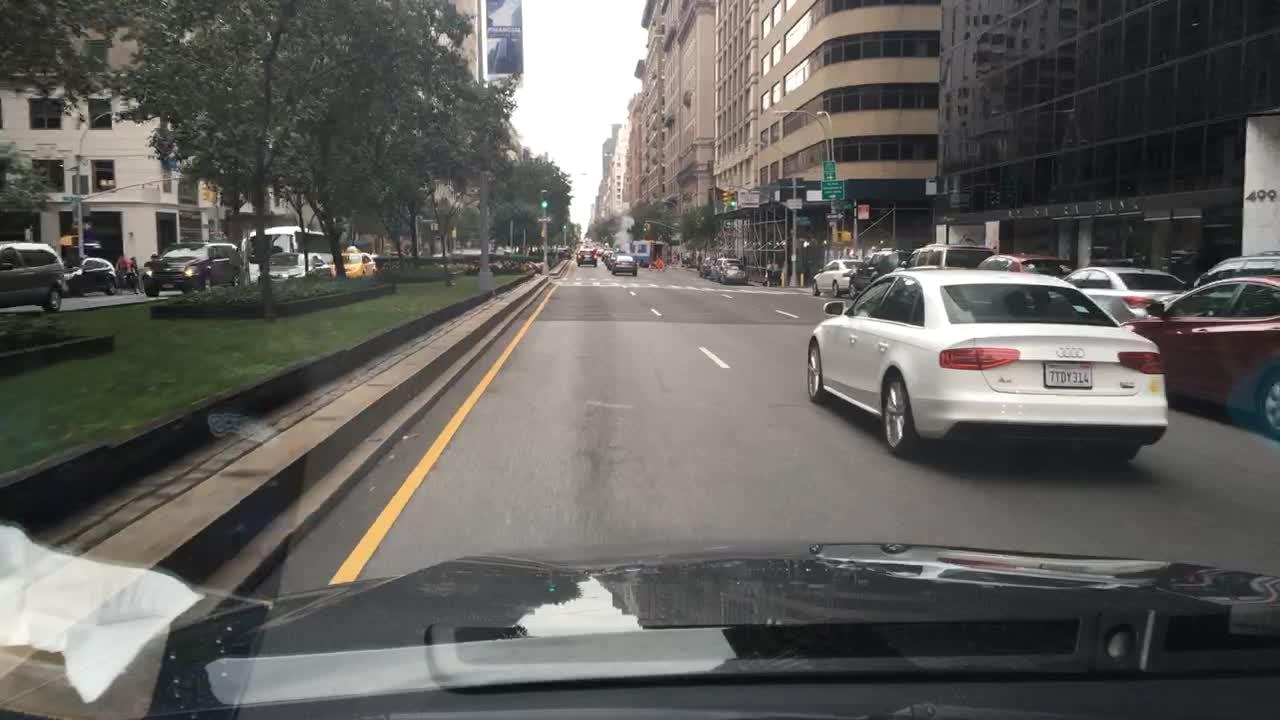Audi: (1053, 339, 1091, 365)
